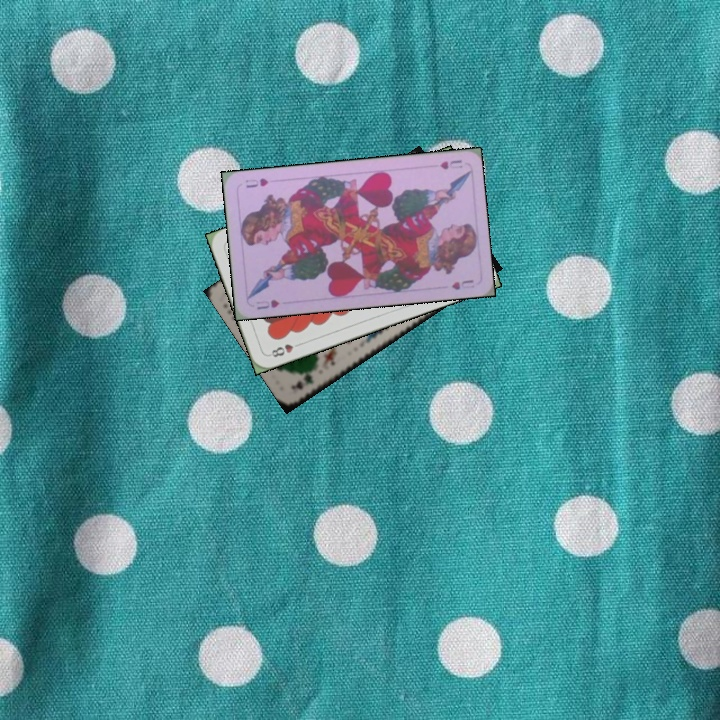GK: (287, 370, 316, 392)
H8: (265, 339, 304, 360)
HU: (252, 295, 282, 312), (436, 156, 465, 172)
